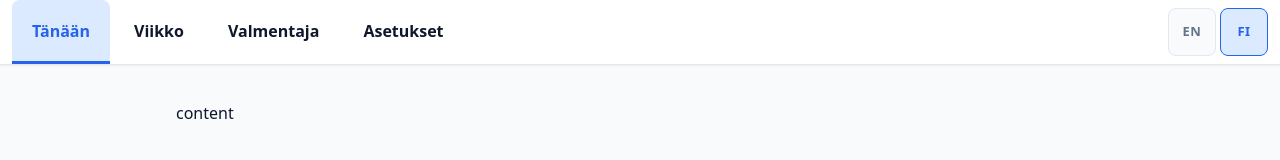
Scenario: AppShell language switcher › switches chrome back to English
Check: the link "Tänään" is shown, box [12, 0, 110, 64]
Click the button "EN" at (1192, 32), box [1168, 8, 1216, 56]
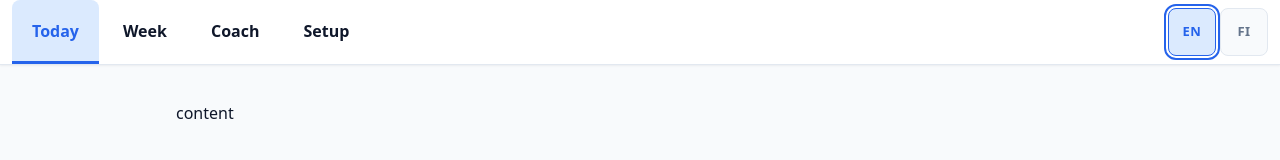
Check: the link "Today" is shown, box [12, 0, 99, 64]
